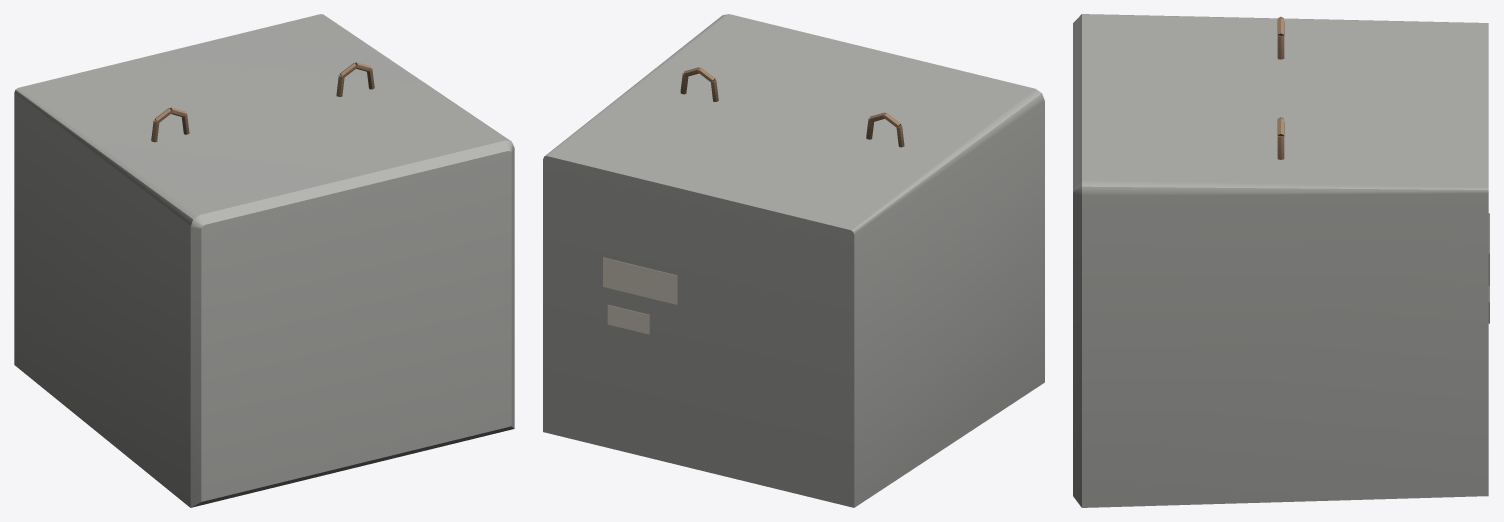
Rendered from road_block.glb.
3 renders of one model, left to right at view 1: azimuth 30°, elevation 25°; view 2: azimuth 150°, elevation 25°; view 3: azimuth 270°, elevation 25°, orthographic. The views are drawn at different scales.
Parts seen in each view (by area): view 1: static; view 2: static; view 3: static.
Boxes of the visible parts, <box> form: static: <box>14,14,514,507</box>; static: <box>543,14,1044,507</box>; static: <box>1073,14,1489,507</box>.
Bounding box in the file's own units: 1.4 × 1.31 × 1.4.
